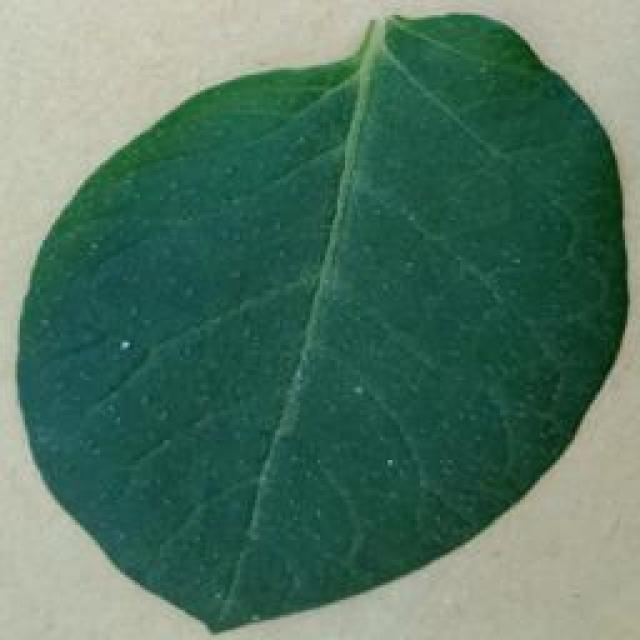Potato_Healthy: (16, 14, 616, 634)
